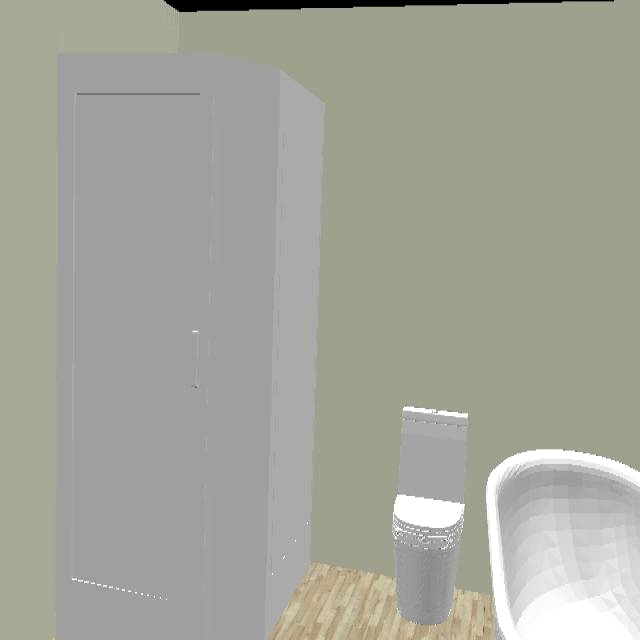bathtube: (484, 449, 640, 640)
shower: (56, 53, 325, 640)
toilet: (394, 407, 471, 625)
